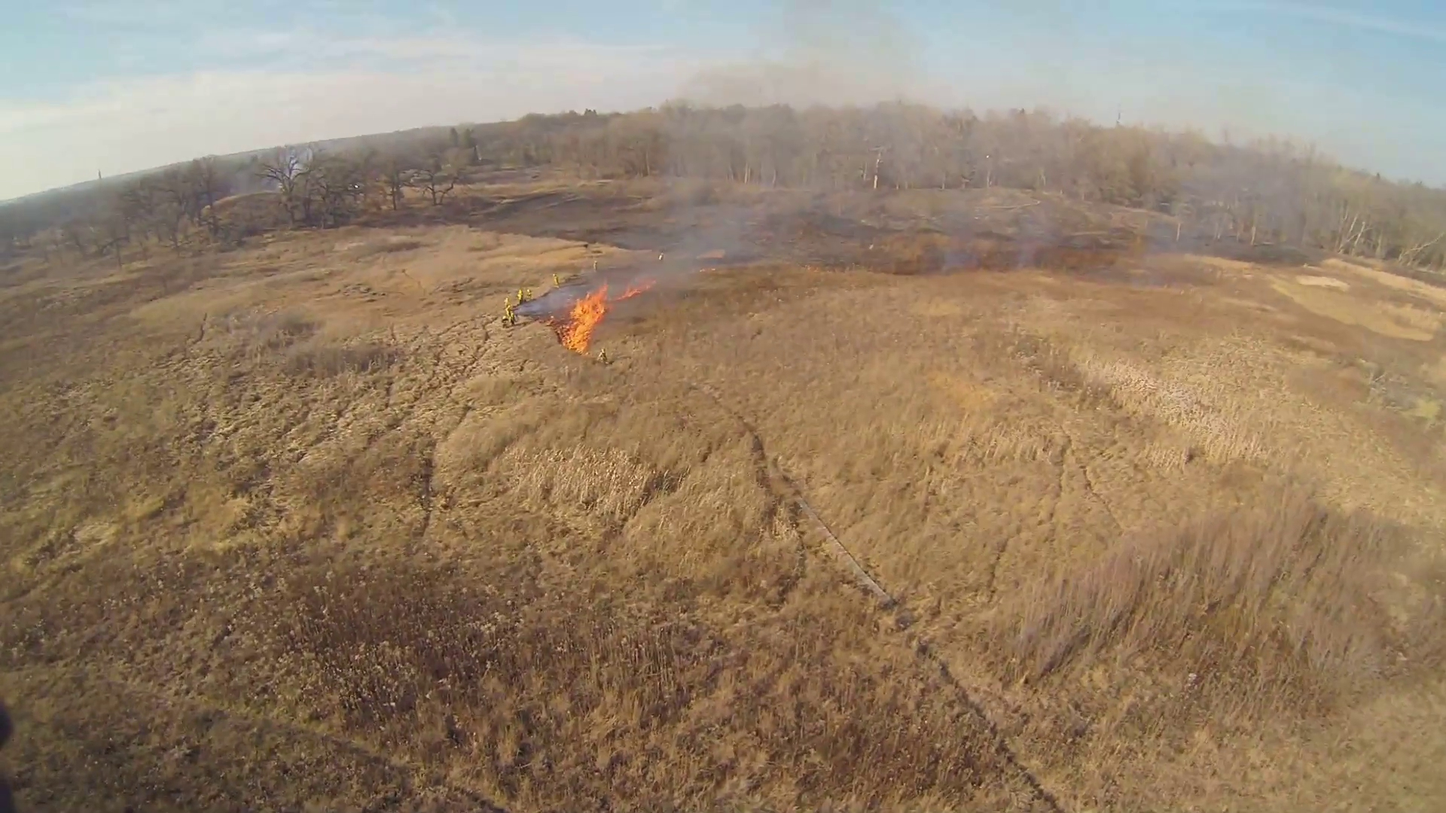forest_fire: (548, 283, 609, 354), (612, 282, 651, 300)
